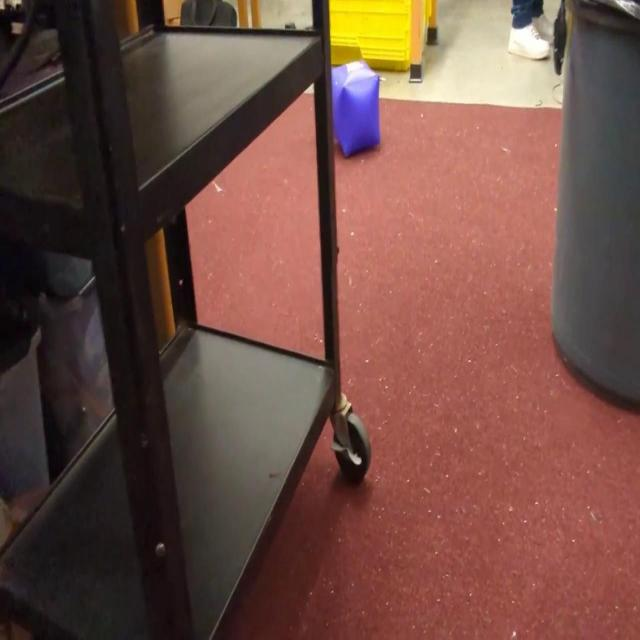frc_cube: (331, 58, 381, 159)
